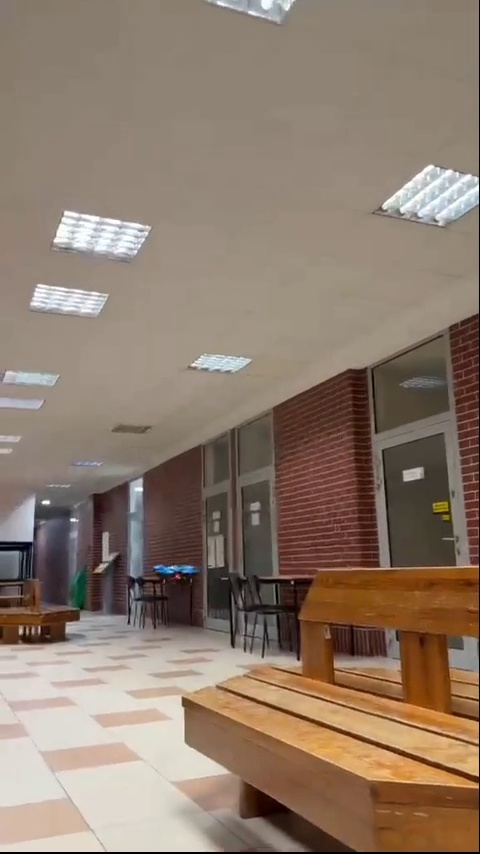drone: (153, 563, 200, 580)
